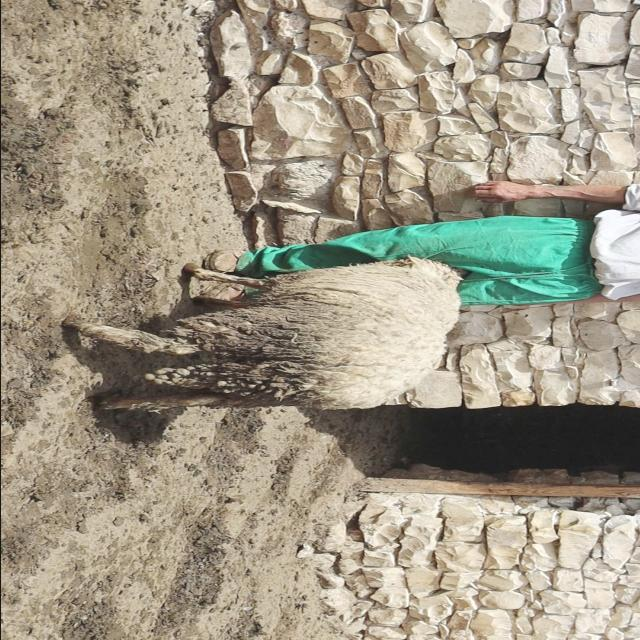Score_4: (64, 257, 461, 411)
